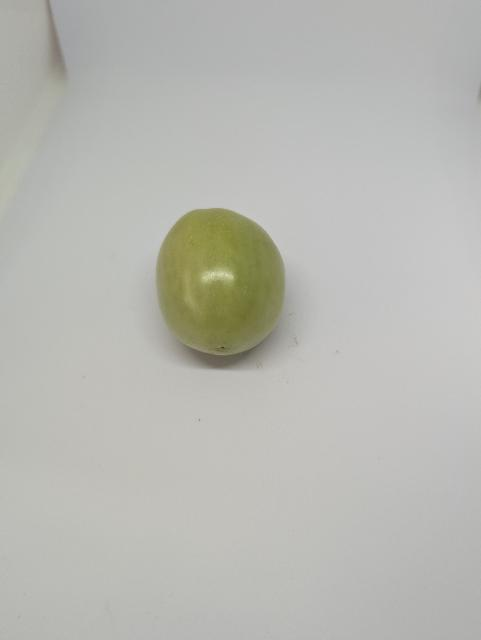green: (146, 200, 300, 380)
